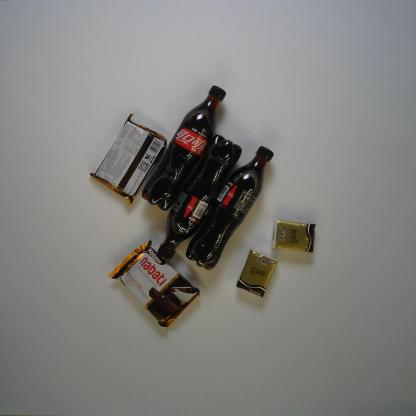Dessert: (107, 238, 202, 330), (89, 112, 168, 206)
Drink: (184, 143, 274, 272), (141, 84, 227, 212), (156, 134, 243, 260)
Tissue: (235, 247, 279, 298), (270, 218, 317, 254)
